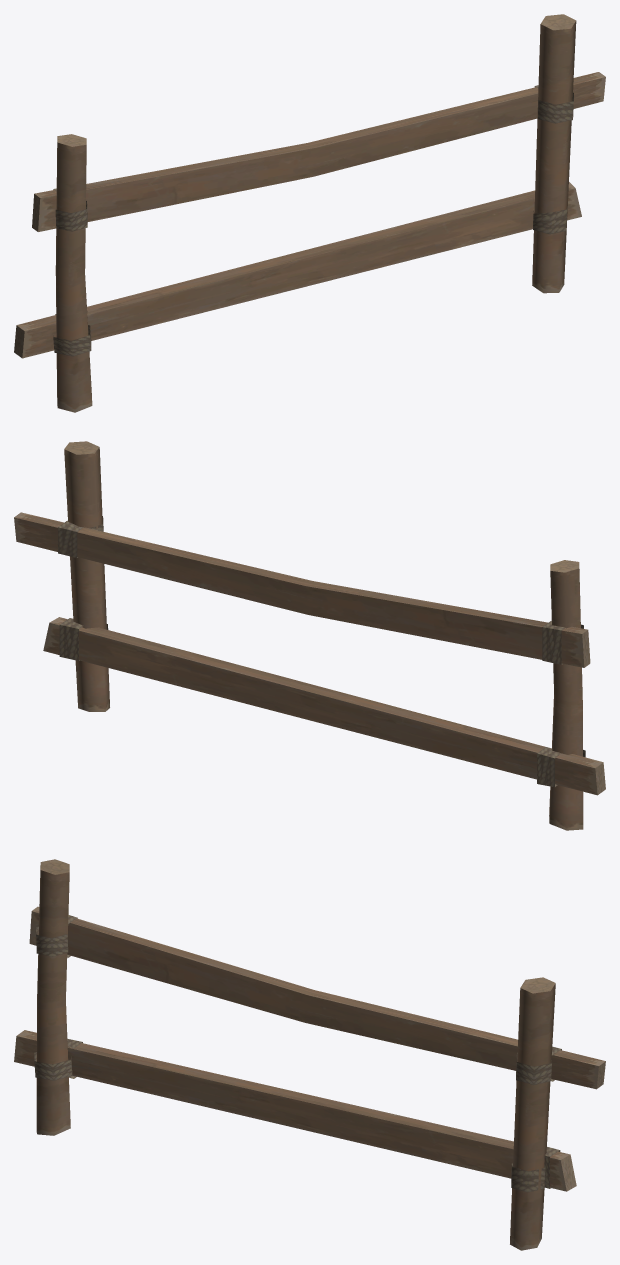
The model's file is Homeworld_Exterior_Common_Thing_Bawn_01_Vo.fbx.
The picture shows the model from 3 angles, top to bottom: view 1: azimuth 30°, elevation 25°; view 2: azimuth 150°, elevation 25°; view 3: azimuth 330°, elevation 25°; orthographic projection.
Parts seen in each view (by area): view 1: Area_MdProps_Zhalan04_Vo; view 2: Area_MdProps_Zhalan04_Vo; view 3: Area_MdProps_Zhalan04_Vo.
Part boxes in pixels (x1,y1,x2,y2): Area_MdProps_Zhalan04_Vo: (14,14,605,412); Area_MdProps_Zhalan04_Vo: (14,441,605,830); Area_MdProps_Zhalan04_Vo: (14,859,605,1250).
Size of the model in its own units: 2.44 by 1.05 by 0.1761.
